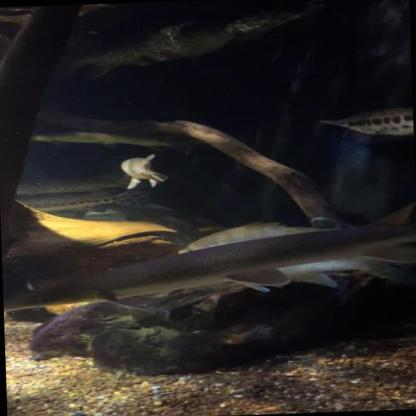fish: (0, 200, 415, 315), (317, 107, 413, 140), (118, 153, 169, 190)
